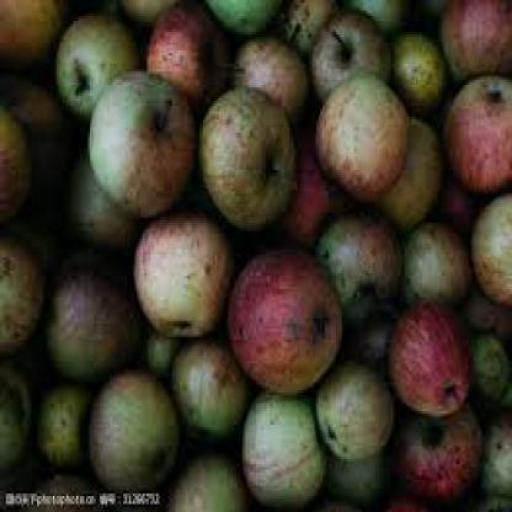biodegradable: (0, 0, 511, 511), (227, 244, 342, 392), (86, 66, 196, 215), (197, 82, 295, 228), (133, 209, 230, 337), (313, 72, 406, 200), (86, 363, 176, 489), (240, 390, 325, 510), (42, 268, 135, 377), (391, 398, 479, 507), (0, 69, 73, 199), (438, 69, 510, 197), (386, 302, 466, 414), (52, 10, 135, 114), (314, 210, 397, 313), (144, 0, 229, 98), (258, 124, 328, 242), (314, 358, 394, 459), (170, 334, 245, 438), (371, 114, 438, 228), (308, 5, 387, 98), (229, 32, 309, 122), (68, 144, 134, 244), (399, 220, 469, 308), (435, 0, 510, 78), (162, 446, 248, 510), (0, 225, 43, 353), (468, 188, 510, 306), (387, 29, 444, 114), (35, 379, 88, 470), (0, 0, 63, 64), (0, 352, 32, 470), (454, 278, 510, 342), (0, 88, 27, 220), (324, 446, 391, 498), (26, 464, 100, 510), (467, 321, 510, 400), (15, 198, 61, 268), (433, 167, 479, 233), (478, 406, 510, 494), (279, 0, 336, 46), (203, 0, 279, 32), (340, 310, 394, 353), (340, 0, 402, 32), (141, 324, 178, 374), (60, 247, 117, 279), (320, 488, 369, 509), (121, 0, 177, 18), (471, 485, 510, 509)
